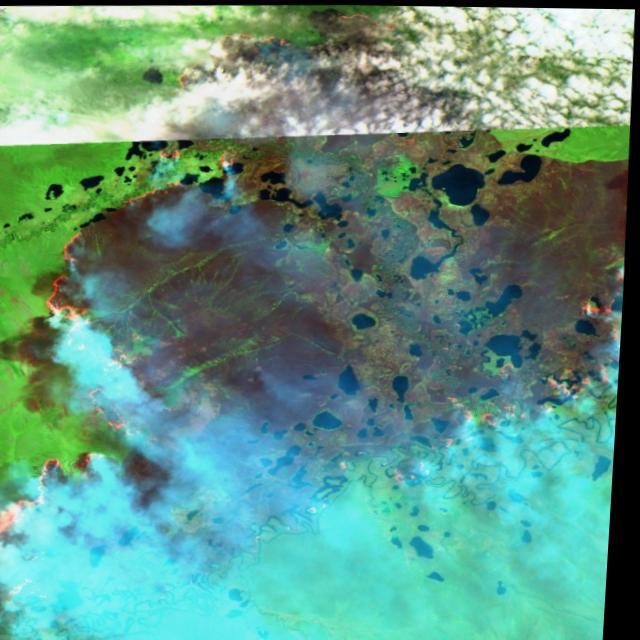fire: (0, 28, 305, 613), (382, 239, 629, 487)
